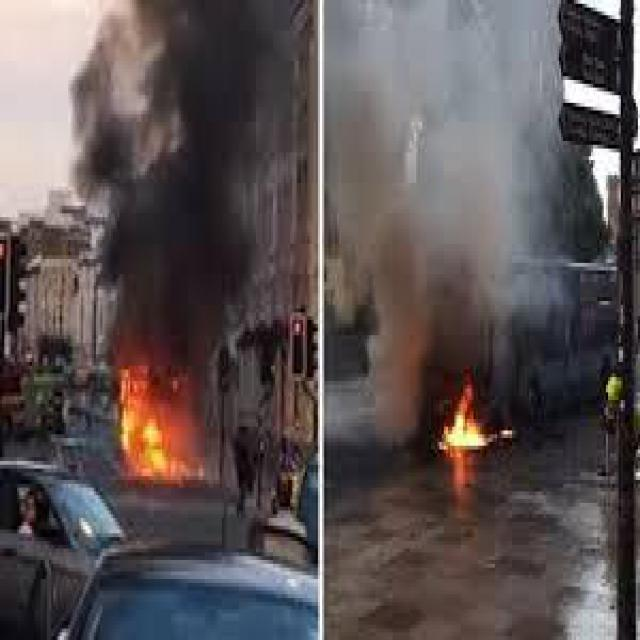fire: (104, 344, 213, 492)
